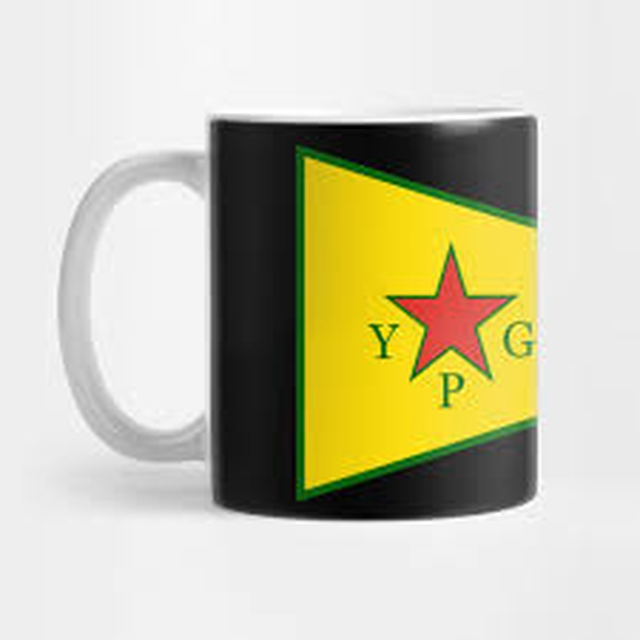YPG: (366, 235, 535, 414)
